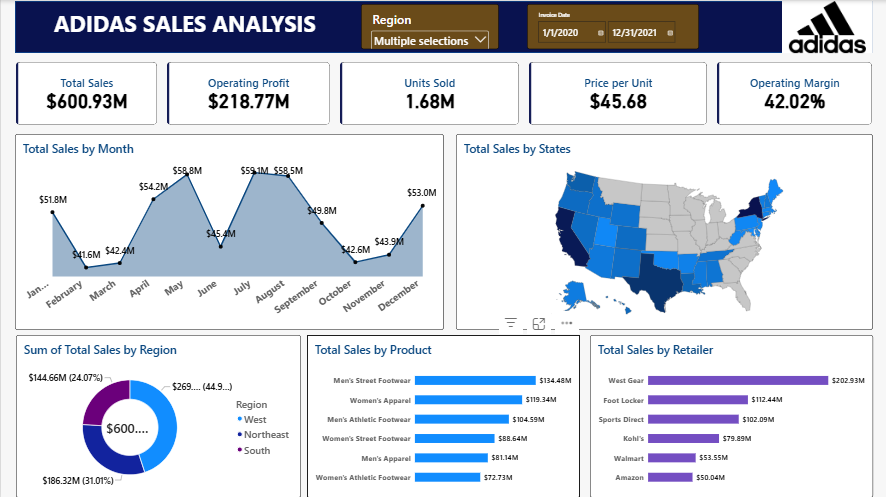

Layout of this report page (visuals, bound fields, positions):
{"tool":"powerbi","page":{"name":"Page 1","canvas":[1920,1080],"ordinal":0},"visuals":[{"type":"shape","box":[30.4,2.2,1860.7,112.8],"z":0},{"type":"textbox","box":[101.9,17.3,594.2,82.4],"z":1000},{"type":"cardVisual","fields":{"Data":["Sum(Data Sales Adidas.Operating Profit)"]},"box":[357.8,132.3,357.8,141],"z":2000},{"type":"cardVisual","fields":{"Data":["Sum(Data Sales Adidas.Units Sold)"]},"box":[733,132.3,392.5,141],"z":3000},{"type":"cardVisual","fields":{"Data":["Sum(Data Sales Adidas.Total Sales)"]},"box":[30.4,132.3,310.1,141],"z":4000},{"type":"cardVisual","fields":{"Data":["Avg(Data Sales Adidas.Price per Unit)"]},"box":[1142.9,132.3,390.4,141],"z":5000},{"type":"cardVisual","fields":{"Data":["Avg(Data Sales Adidas.Operating Margin)"]},"box":[1550.6,132.3,340.5,141],"z":6000},{"type":"areaChart","fields":{"Category":["Data Sales Adidas.Invoice Date.Variation.Date Hierarchy.Month"],"Y":["Sum(Data Sales Adidas.Total Sales)"]},"box":[30.4,290.6,930.4,425.1],"z":7000},{"type":"shapeMap","title":"Total Sales by States","fields":{"Category":["Data Sales Adidas.State"],"Value":["Sum(Data Sales Adidas.Total Sales)"]},"box":[986.7,290.6,904.3,425.1],"z":8000},{"type":"donutChart","fields":{"Category":["Data Sales Adidas.Region"],"Y":["Sum(Data Sales Adidas.Total Sales)"]},"box":[32.5,726.5,618.1,353.5],"z":9000},{"type":"barChart","fields":{"Category":["Data Sales Adidas.Retailer"],"Y":["Sum(Data Sales Adidas.Total Sales)"]},"box":[1277.3,726.5,613.7,353.5],"z":9001},{"type":"barChart","fields":{"Category":["Data Sales Adidas.Product"],"Y":["Sum(Data Sales Adidas.Total Sales)"]},"box":[663.6,726.5,592,353.5],"z":9002},{"type":"slicer","fields":{"Values":["Data Sales Adidas.Invoice Date"]},"box":[1140.7,8.7,373,97.6],"z":9003},{"type":"slicer","fields":{"Values":["Data Sales Adidas.Region"]},"box":[780.7,8.7,299.3,97.6],"z":9004},{"type":"image","box":[1693.7,2.2,197.3,112.8],"z":9005}]}

Visuals, with their boxes in screenshot pixels (x1, y1, x2, y2), scaled from the page's 1920x1080 canvas onto the 886x497 screenshot:
shape: [x1=14, y1=1, x2=873, y2=53]
textbox: [x1=47, y1=8, x2=321, y2=46]
cardVisual - Sum(Data Sales Adidas.Operating Profit): [x1=165, y1=61, x2=330, y2=126]
cardVisual - Sum(Data Sales Adidas.Units Sold): [x1=338, y1=61, x2=519, y2=126]
cardVisual - Sum(Data Sales Adidas.Total Sales): [x1=14, y1=61, x2=157, y2=126]
cardVisual - Avg(Data Sales Adidas.Price per Unit): [x1=527, y1=61, x2=708, y2=126]
cardVisual - Avg(Data Sales Adidas.Operating Margin): [x1=716, y1=61, x2=873, y2=126]
areaChart - Data Sales Adidas.Invoice Date.Variation.Date Hierarchy.Month x Sum(Data Sales Adidas.Total Sales): [x1=14, y1=134, x2=443, y2=329]
"Total Sales by States" shapeMap: [x1=455, y1=134, x2=873, y2=329]
donutChart - Data Sales Adidas.Region x Sum(Data Sales Adidas.Total Sales): [x1=15, y1=334, x2=300, y2=496]
barChart - Data Sales Adidas.Retailer x Sum(Data Sales Adidas.Total Sales): [x1=589, y1=334, x2=873, y2=496]
barChart - Data Sales Adidas.Product x Sum(Data Sales Adidas.Total Sales): [x1=306, y1=334, x2=579, y2=496]
slicer - Data Sales Adidas.Invoice Date: [x1=526, y1=4, x2=699, y2=49]
slicer - Data Sales Adidas.Region: [x1=360, y1=4, x2=498, y2=49]
image: [x1=782, y1=1, x2=873, y2=53]
